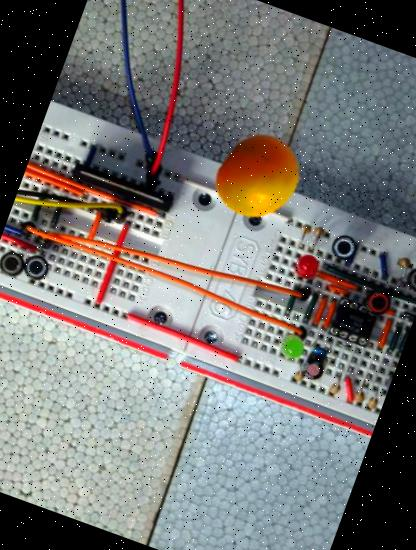Cherry: (202, 121, 315, 234)
